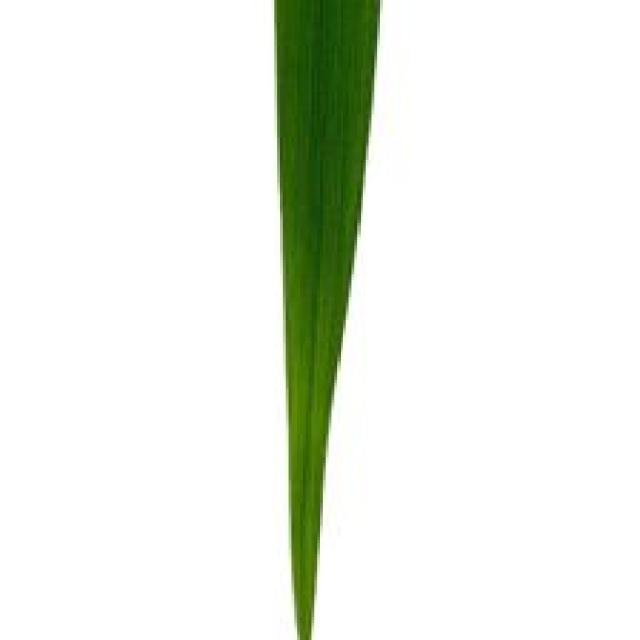Rice___Healthy_Rice_Plant: (273, 0, 382, 637)
